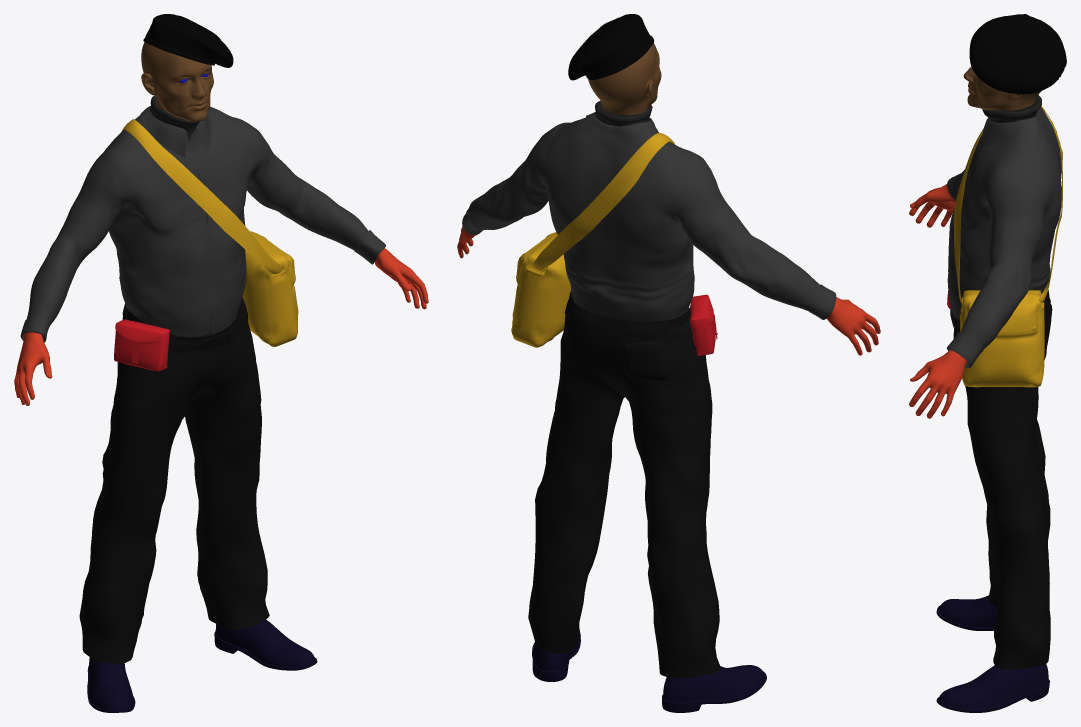
3 views of the same model, side by side, from view 1: azimuth 30°, elevation 25°; view 2: azimuth 150°, elevation 25°; view 3: azimuth 270°, elevation 25° (orthographic). The views are drawn at different scales.
Visible parts, largest first — view 1: Pants, Shirt, Bag, Shoes, Head, Hands, Beret, Pouch; view 2: Pants, Shirt, Bag, Shoes, Beret, Head, Hands, Pouch, Collar; view 3: Shirt, Pants, Bag, Beret, Shoes, Hands, Head, Collar.
Boxes of the visible parts, x1=… form: Pants: x1=79, y1=297, x2=269, y2=664; Shirt: x1=20, y1=106, x2=385, y2=342; Bag: x1=122, y1=119, x2=298, y2=346; Shoes: x1=87, y1=620, x2=317, y2=712; Head: x1=141, y1=42, x2=213, y2=122; Hands: x1=14, y1=248, x2=428, y2=405; Beret: x1=143, y1=14, x2=233, y2=67; Pouch: x1=114, y1=319, x2=169, y2=371; Pants: x1=528, y1=290, x2=720, y2=678; Shirt: x1=462, y1=112, x2=836, y2=321; Bag: x1=511, y1=132, x2=674, y2=347; Shoes: x1=532, y1=637, x2=766, y2=712; Beret: x1=568, y1=14, x2=654, y2=80; Head: x1=588, y1=43, x2=661, y2=115; Hands: x1=457, y1=225, x2=880, y2=355; Pouch: x1=689, y1=294, x2=717, y2=355; Collar: x1=595, y1=100, x2=652, y2=126; Shirt: x1=946, y1=107, x2=1061, y2=368; Pants: x1=950, y1=289, x2=1052, y2=669; Bag: x1=953, y1=106, x2=1062, y2=387; Beret: x1=969, y1=14, x2=1066, y2=94; Shoes: x1=936, y1=595, x2=1049, y2=712; Hands: x1=909, y1=184, x2=967, y2=418; Head: x1=963, y1=67, x2=1041, y2=110; Collar: x1=982, y1=95, x2=1041, y2=122.
Bounding box in the file's own units: 117 × 180 × 39.95.
